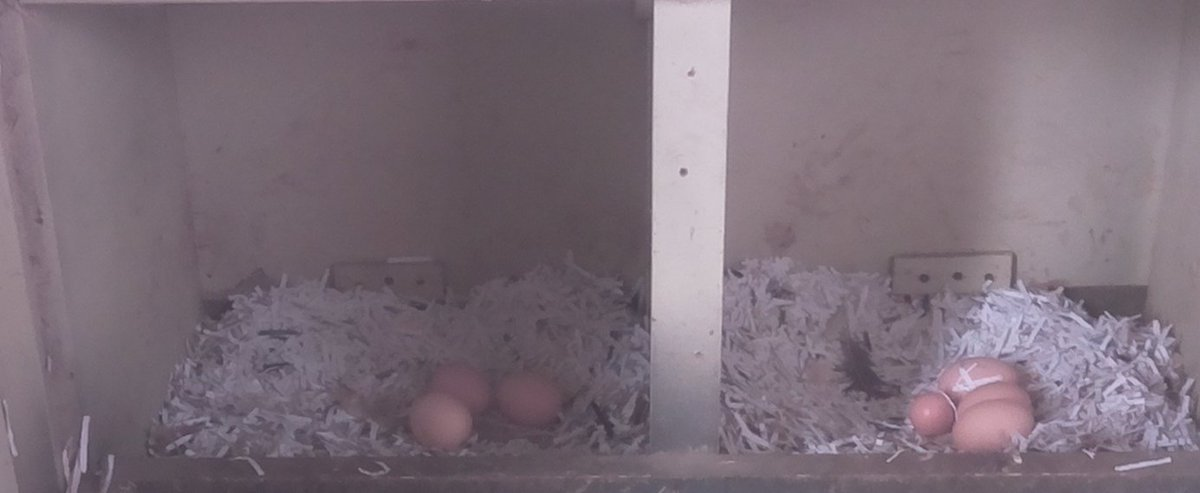egg: (485, 364, 571, 436), (402, 387, 479, 459), (952, 396, 1038, 455), (425, 360, 492, 424), (932, 354, 1033, 395), (903, 383, 957, 443), (953, 380, 1035, 419)
